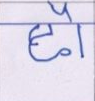ai_matra: (48, 2, 78, 22)
